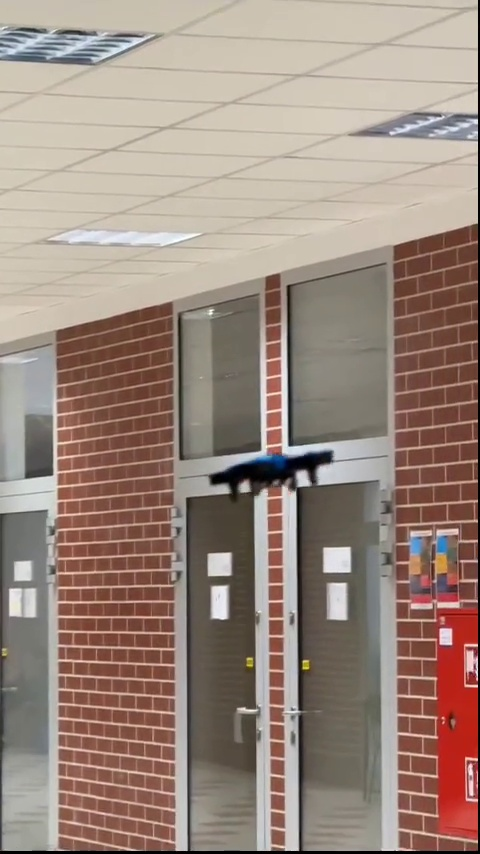drone: (204, 453, 332, 497)
